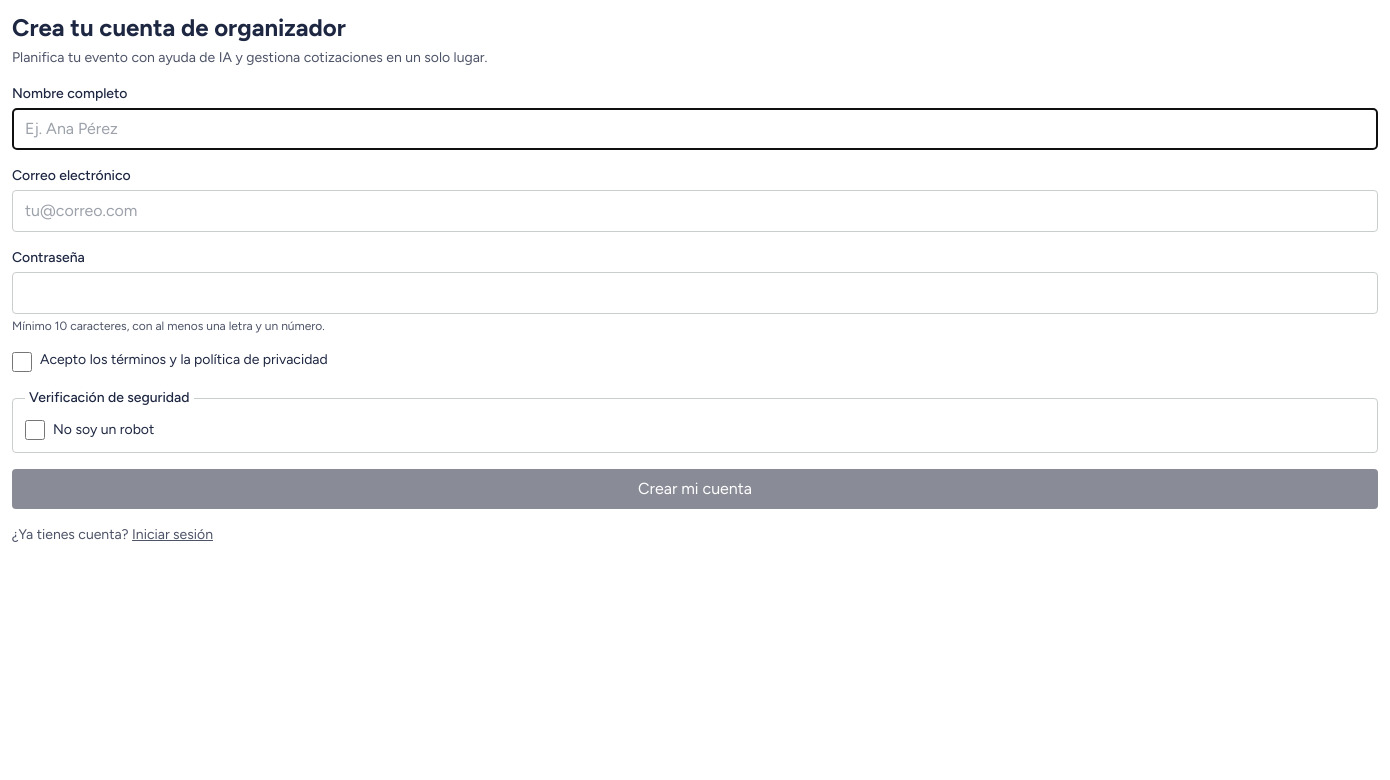
Test: US-001 FE-002/FE-003 — estados y validación › EC-02: contraseña débil → error de campo accesible, sin request
Type "Ana Pérez" into the field labelled "Nombre completo" at (695, 129), box [12, 108, 1378, 150]
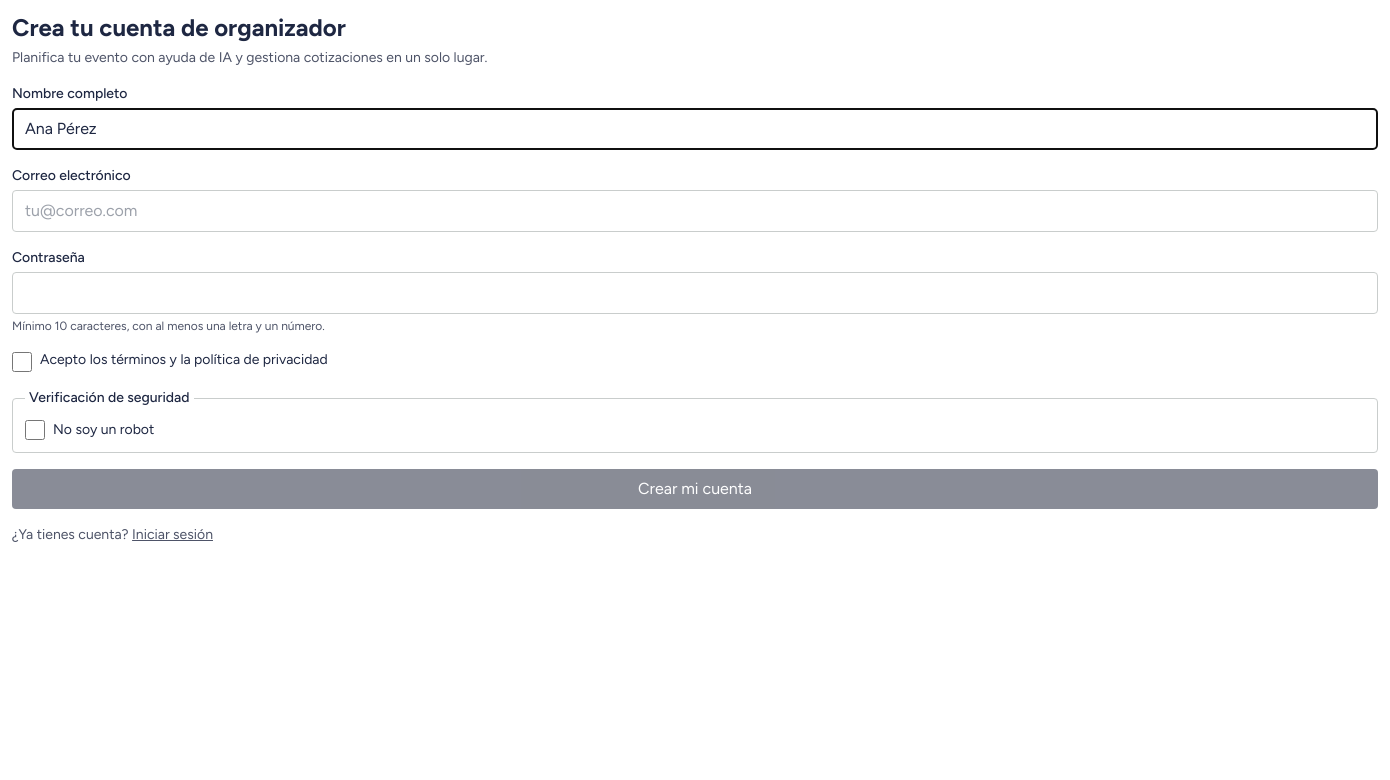
Type "ana@eventflow.test" into the field labelled "Correo electrónico" at (695, 211), box [12, 190, 1378, 232]
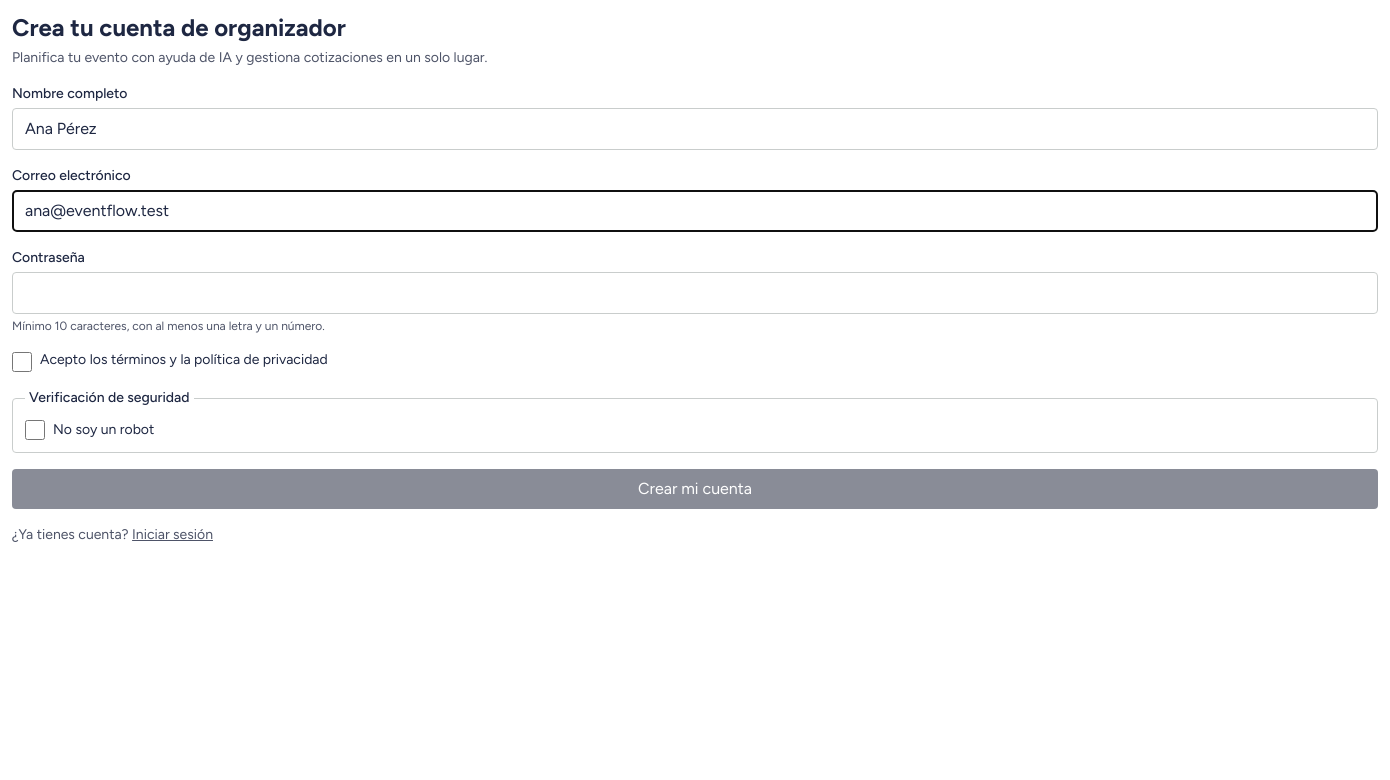
Type "corta1" into the password field labelled "Contraseña" at (695, 293), box [12, 272, 1378, 314]
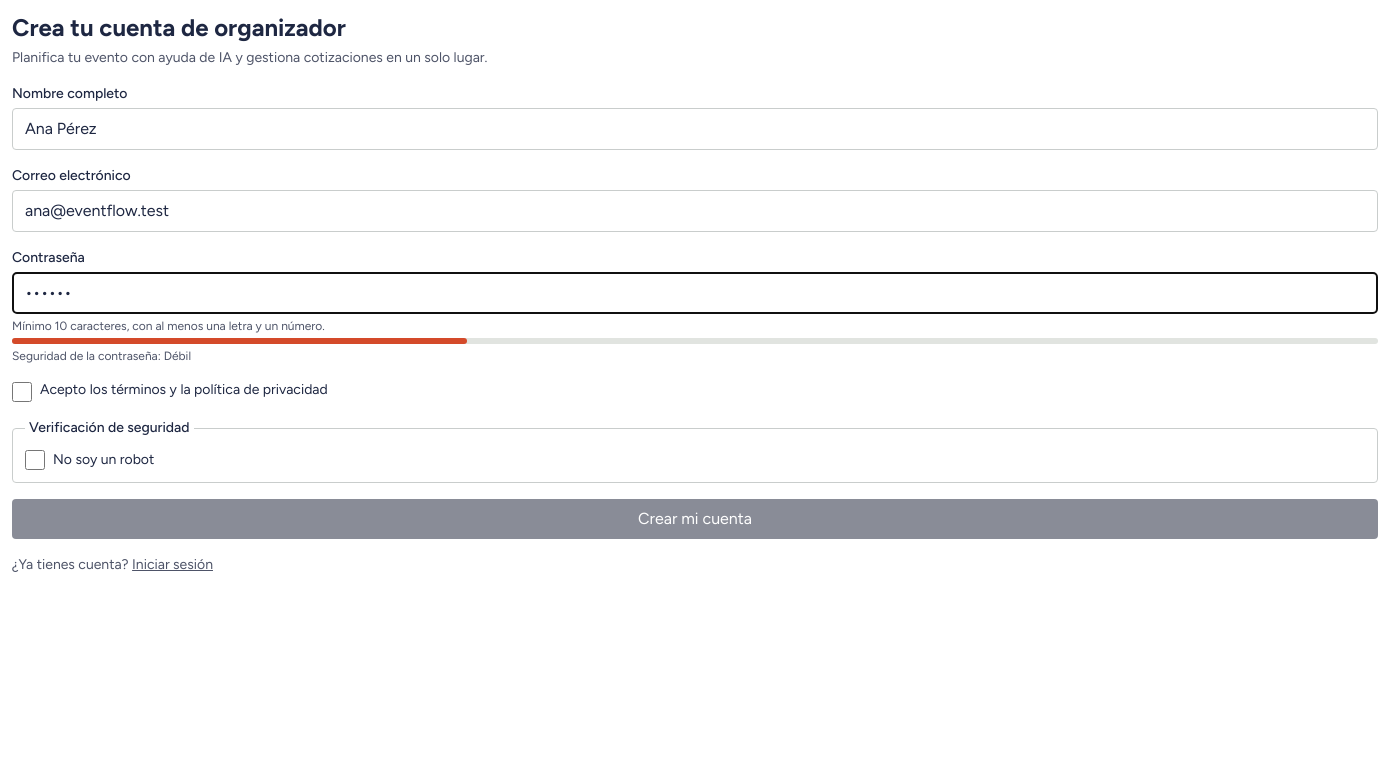
Click the checkbox labelled "Acepto los términos y la política de privacidad" at (22, 392), box [12, 382, 32, 402]
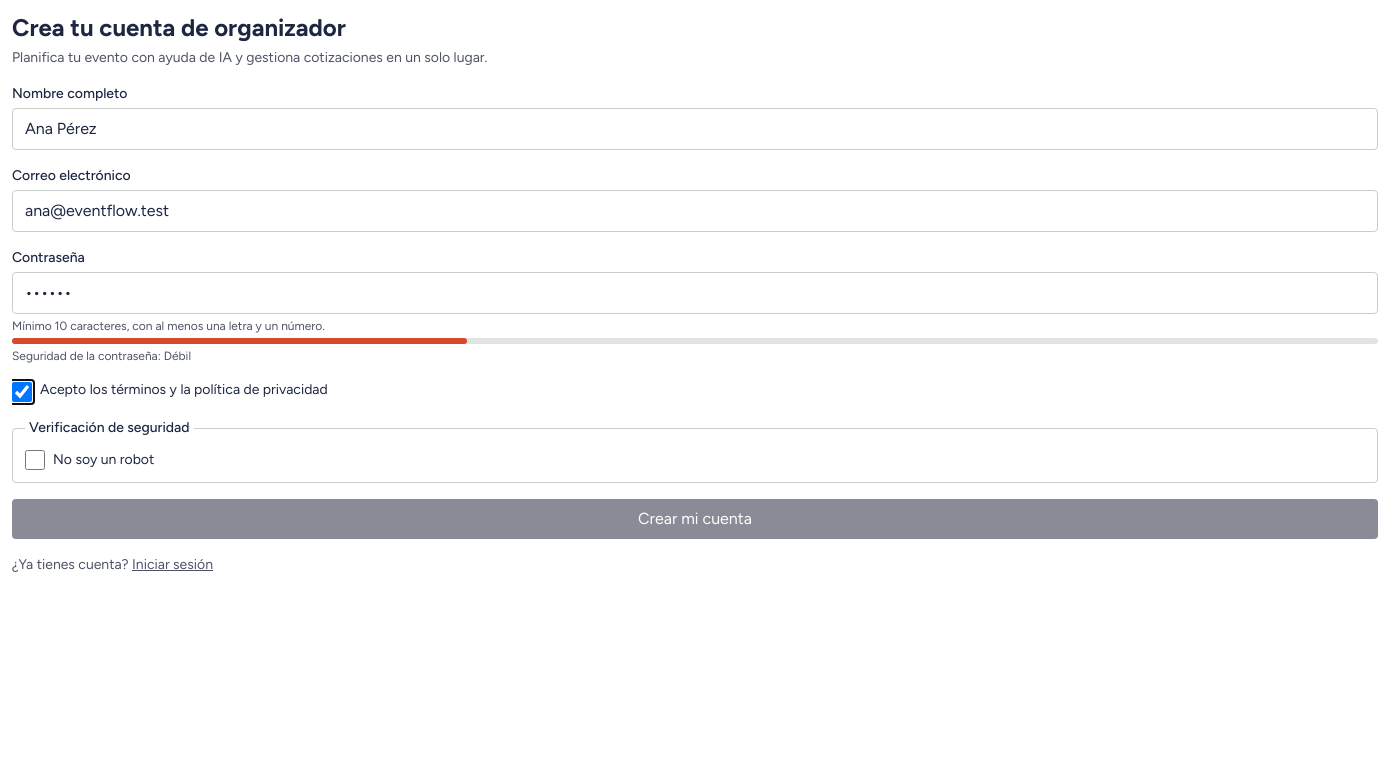
Click the checkbox labelled "No soy un robot" at (35, 460), box [25, 450, 45, 470]
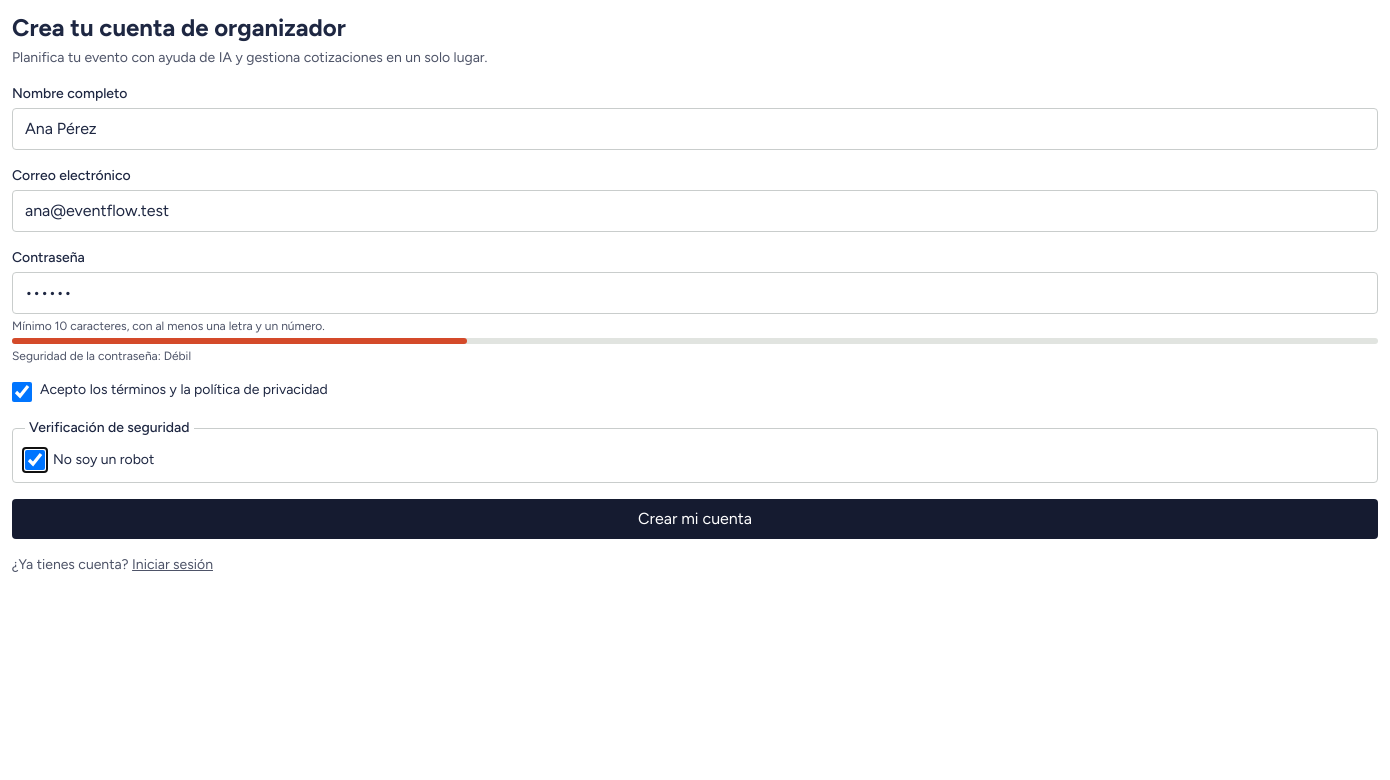
Click the button "Crear mi cuenta" at (695, 519), box [12, 499, 1378, 539]
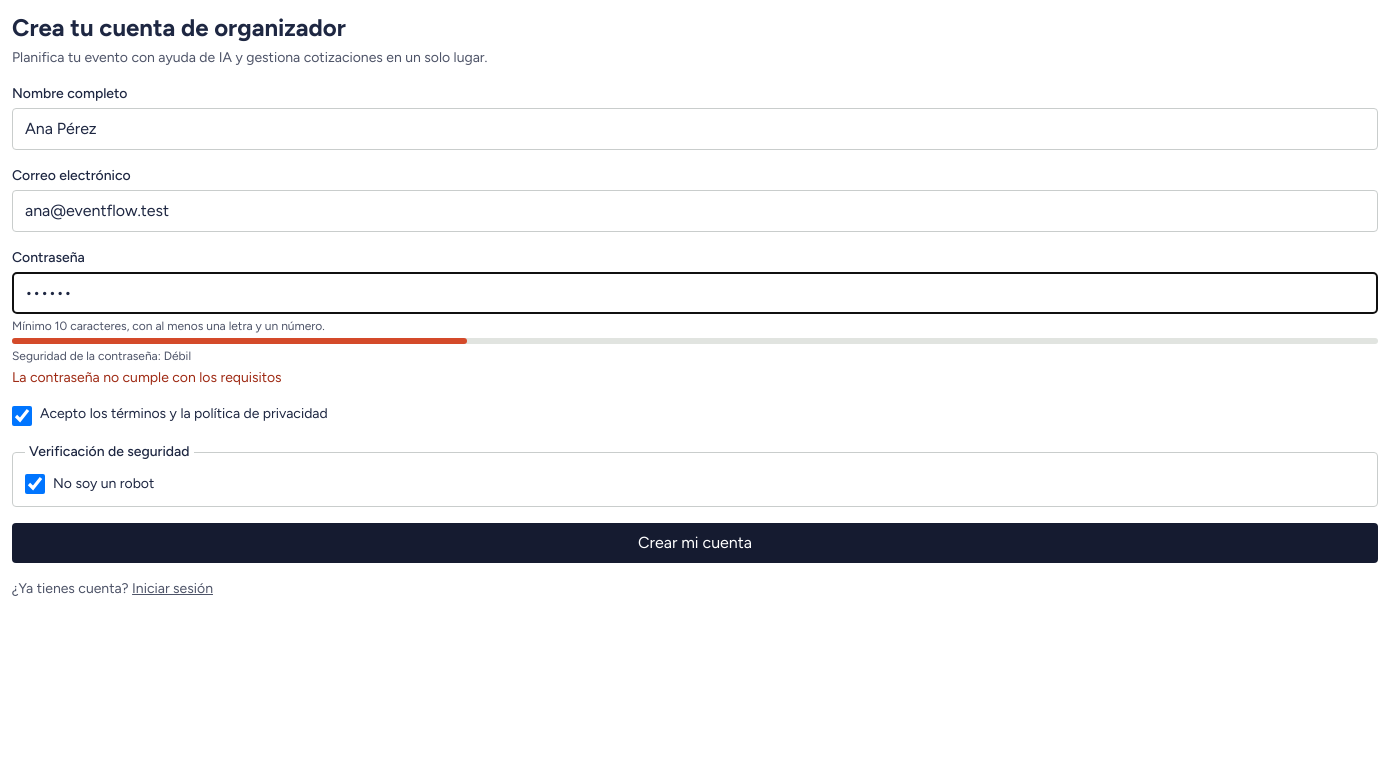
Check: the text "La contraseña no cumple con los requisitos" is shown, box [12, 369, 282, 386]
